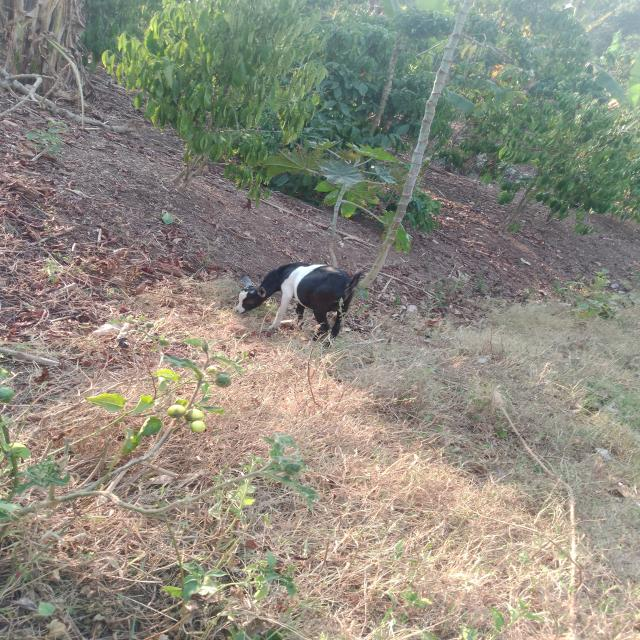goat: (199, 239, 386, 378)
